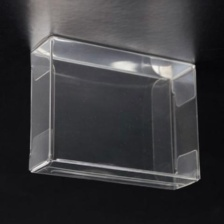plastic_box: (19, 27, 206, 196)
